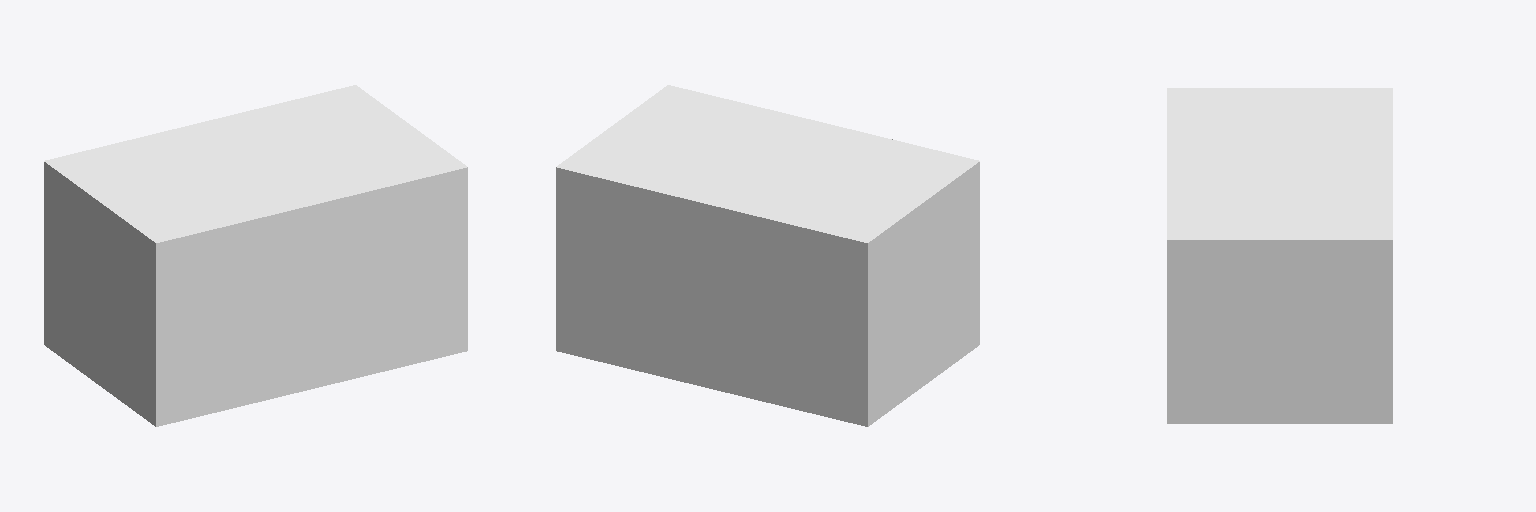
The model's file is Clinic.obj.
3 views of the same model, side by side, from view 1: azimuth 30°, elevation 25°; view 2: azimuth 150°, elevation 25°; view 3: azimuth 270°, elevation 25° (orthographic).
Size of the model in its own units: 16 by 9 by 10.